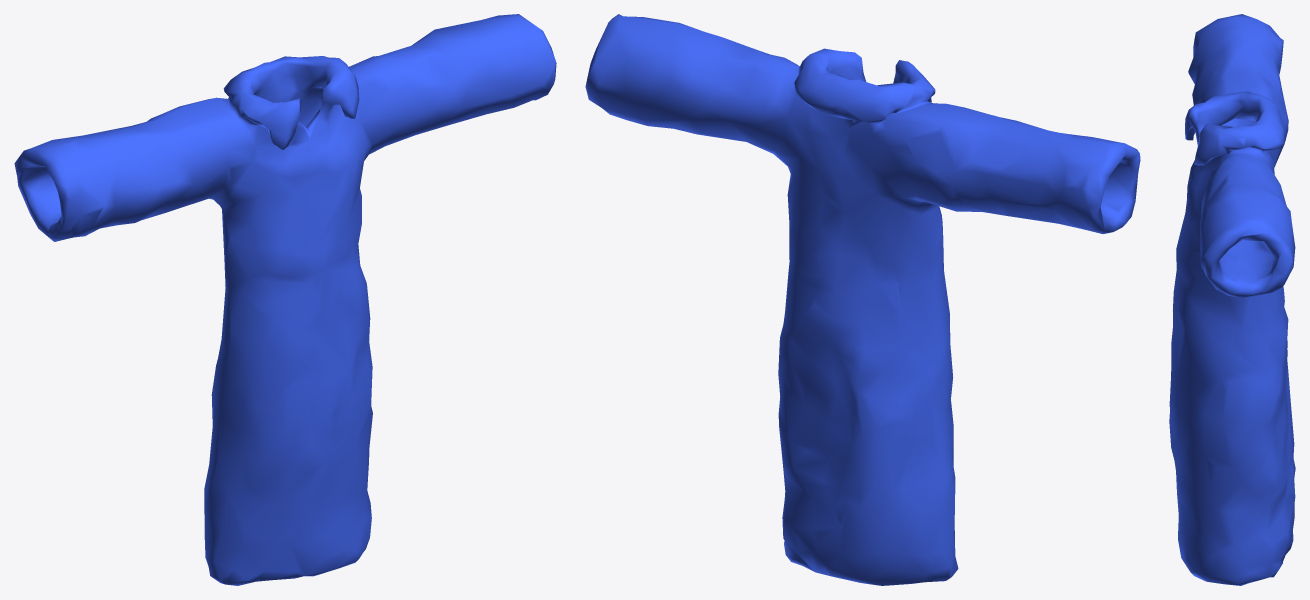
Rendered from collared shirt blue.glb.
3 renders of one model, left to right at view 1: azimuth 30°, elevation 25°; view 2: azimuth 150°, elevation 25°; view 3: azimuth 270°, elevation 25°, orthographic. The views are drawn at different scales.
Visible parts, largest first — view 1: shirt_collared_blue.001; view 2: shirt_collared_blue.001; view 3: shirt_collared_blue.001.
Boxes of the visible parts, bbox=[...] form: shirt_collared_blue.001: bbox=[14, 14, 556, 585]; shirt_collared_blue.001: bbox=[585, 14, 1140, 585]; shirt_collared_blue.001: bbox=[1169, 14, 1295, 585].
Size of the model in its own units: 0.3705 by 0.3404 by 0.0863.
1 material, 1 textured.
